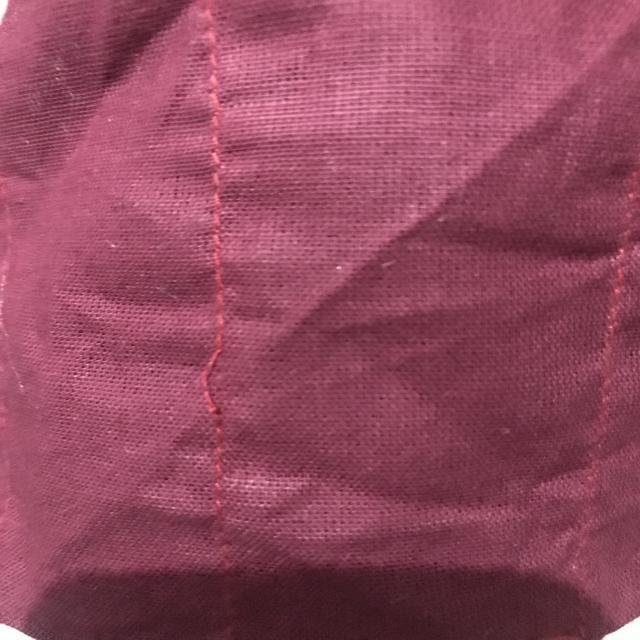good: (196, 152, 237, 256)
skip: (192, 338, 239, 426)
